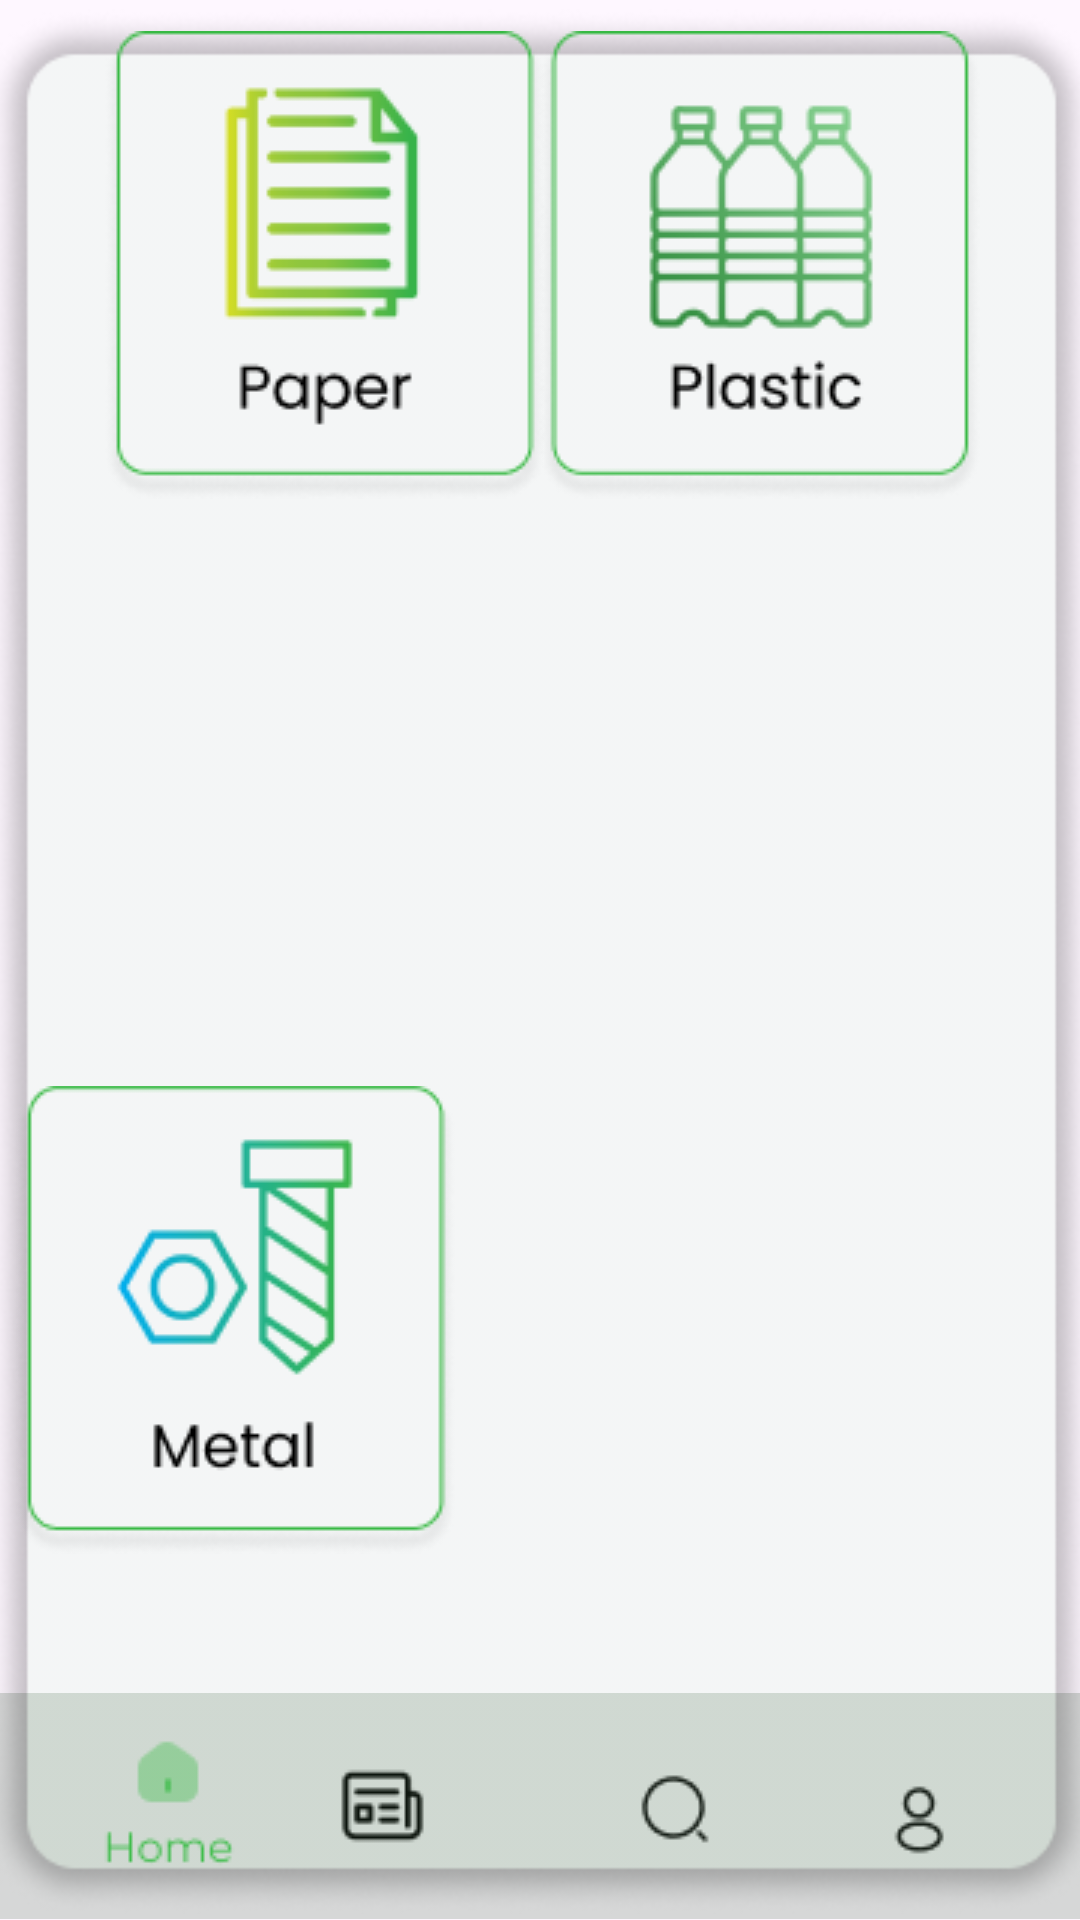

Locate icon controls on the screen. Image size 1080x1920, boxes as (x1, y1, x2, y2).
bulletin: (341, 1770, 424, 1842)
